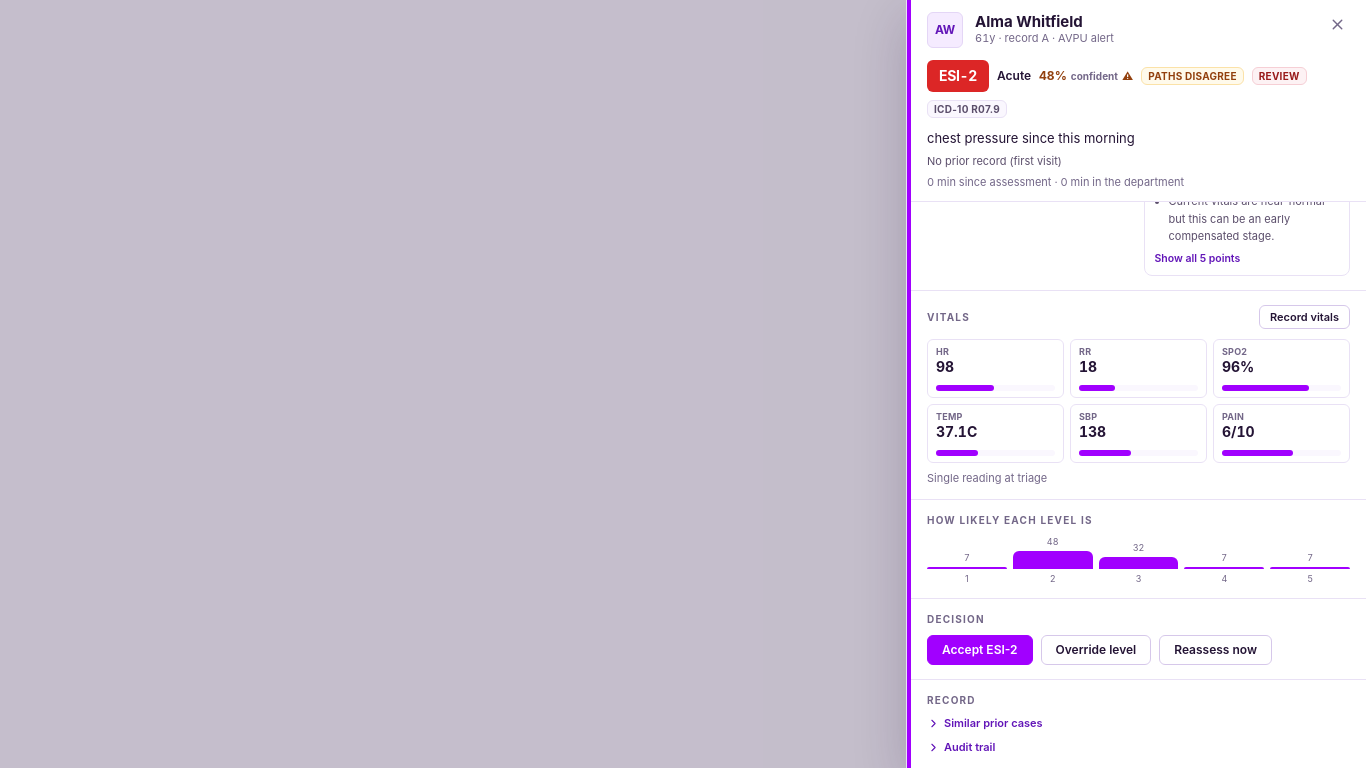
Test: the audit trail › renders every backend enum as English
This screenshot has width=1366, height=768.
(page scrolled)
Click the button "Audit trail" at coordinates (961, 747), box x1=927 y1=740 x2=995 y2=754
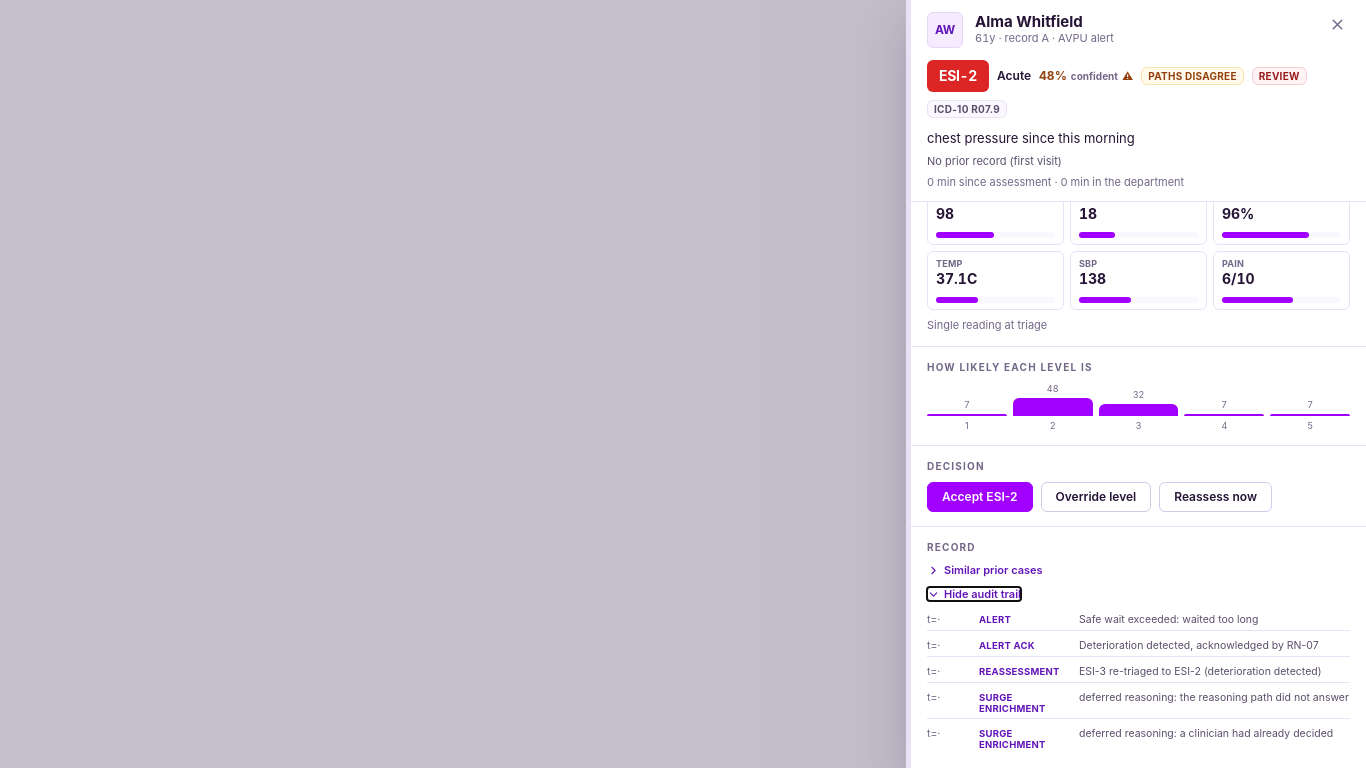
Expected: the text "Safe wait exceeded" shows "deterioration detected", x1=1079 y1=639 x2=1319 y2=652
Expected: the text "Safe wait exceeded" shows "the reasoning path did not answer", x1=1079 y1=691 x2=1349 y2=704
Expected: the text "Safe wait exceeded" shows "a clinician had already decided", x1=1079 y1=727 x2=1333 y2=740
